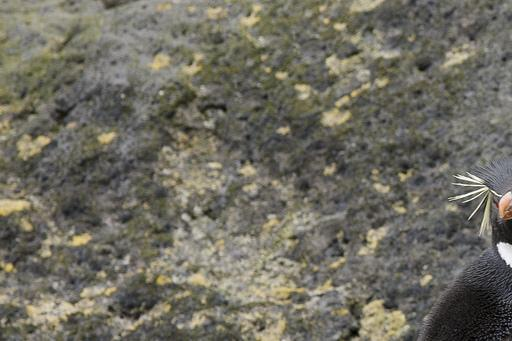Southern Rockhopper Penguin: (386, 132, 512, 341)
